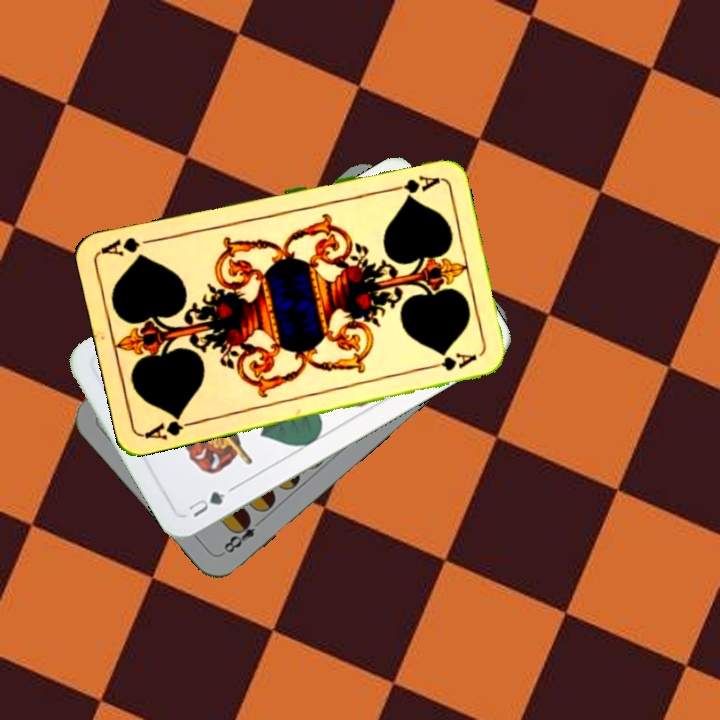E8: (219, 512, 267, 556)
GA: (141, 410, 199, 442), (383, 171, 442, 195)
GU: (184, 487, 228, 521)
